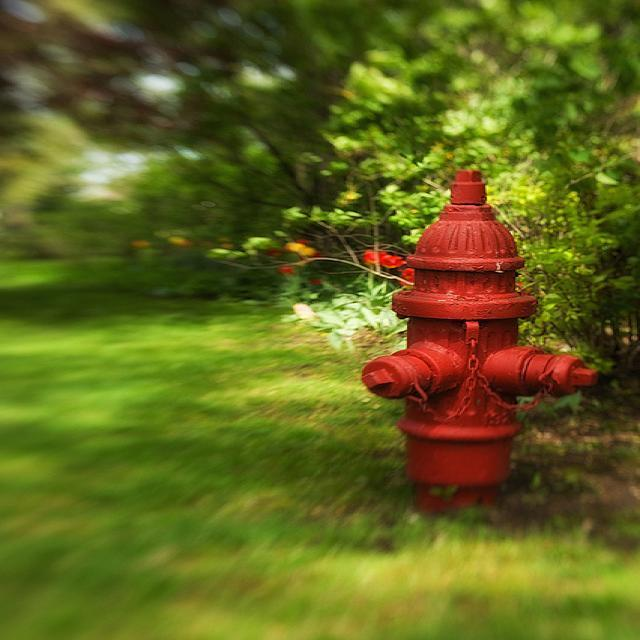fire_hydrant: (362, 167, 594, 517)
